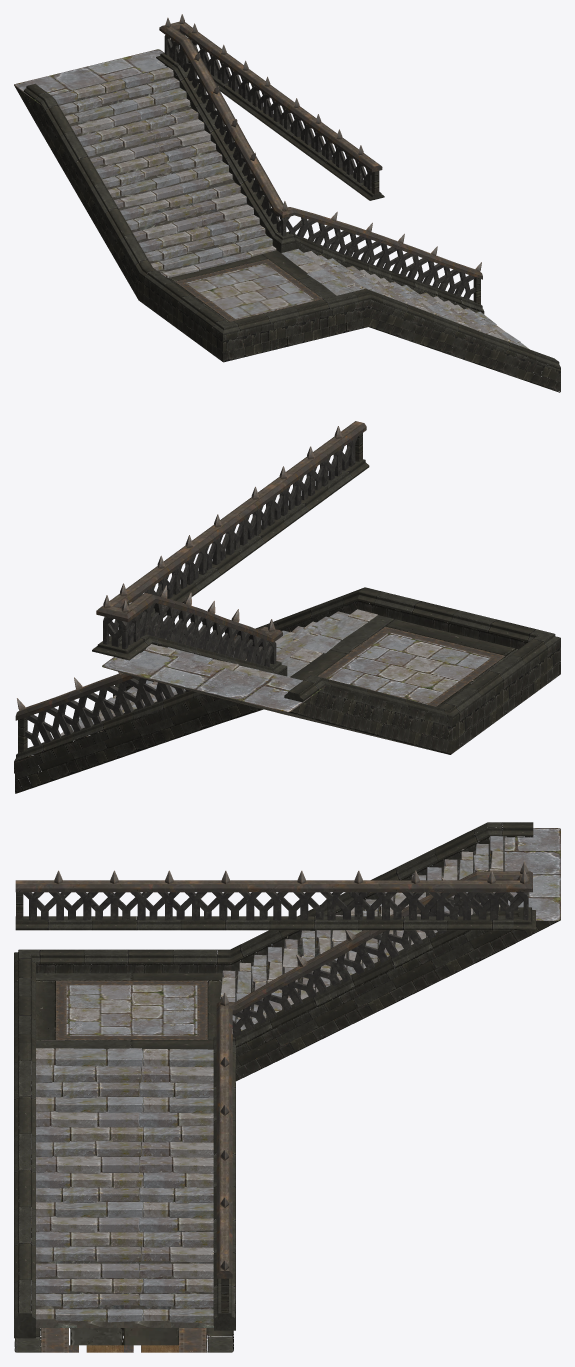
3 views of the same model, one above another, from view 1: azimuth 30°, elevation 25°; view 2: azimuth 150°, elevation 25°; view 3: azimuth 270°, elevation 25° (orthographic). The views are drawn at different scales.
Visible parts, largest first — view 1: SM_Greathall_Stepset_02_LOD0; view 2: SM_Greathall_Stepset_02_LOD0; view 3: SM_Greathall_Stepset_02_LOD0.
Part boxes in pixels (box(x1,y1,x2,y2)): SM_Greathall_Stepset_02_LOD0: box(14, 14, 560, 392); SM_Greathall_Stepset_02_LOD0: box(14, 421, 560, 793); SM_Greathall_Stepset_02_LOD0: box(14, 822, 560, 1352).
Bounding box in the file's own units: 16.29 × 12.83 × 17.41.
4 materials, 4 textured.
